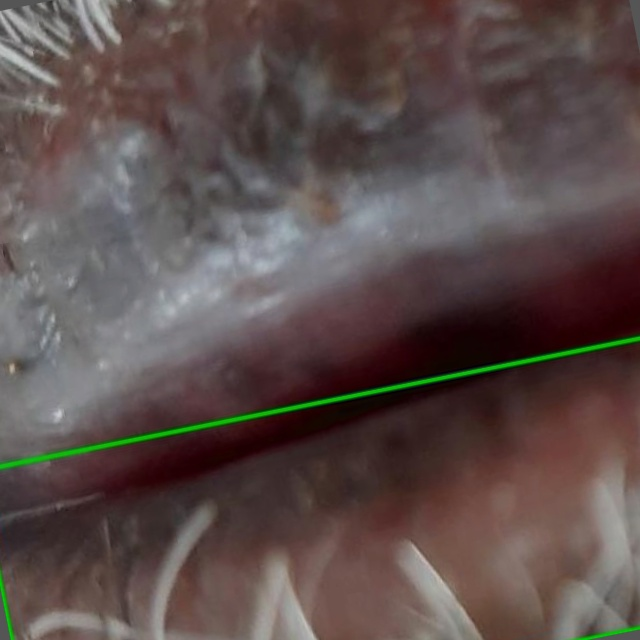Contact Dermatitis: (0, 338, 639, 639)
